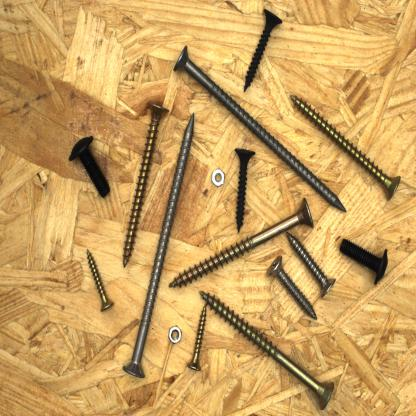screw: (171, 42, 350, 216), (121, 108, 198, 380), (197, 286, 340, 414), (165, 193, 319, 294), (285, 87, 393, 204), (121, 99, 171, 272), (263, 252, 324, 323), (241, 6, 285, 98), (284, 228, 340, 300), (66, 130, 114, 202), (336, 232, 392, 289), (226, 143, 258, 236), (82, 242, 118, 317), (184, 301, 214, 374)
